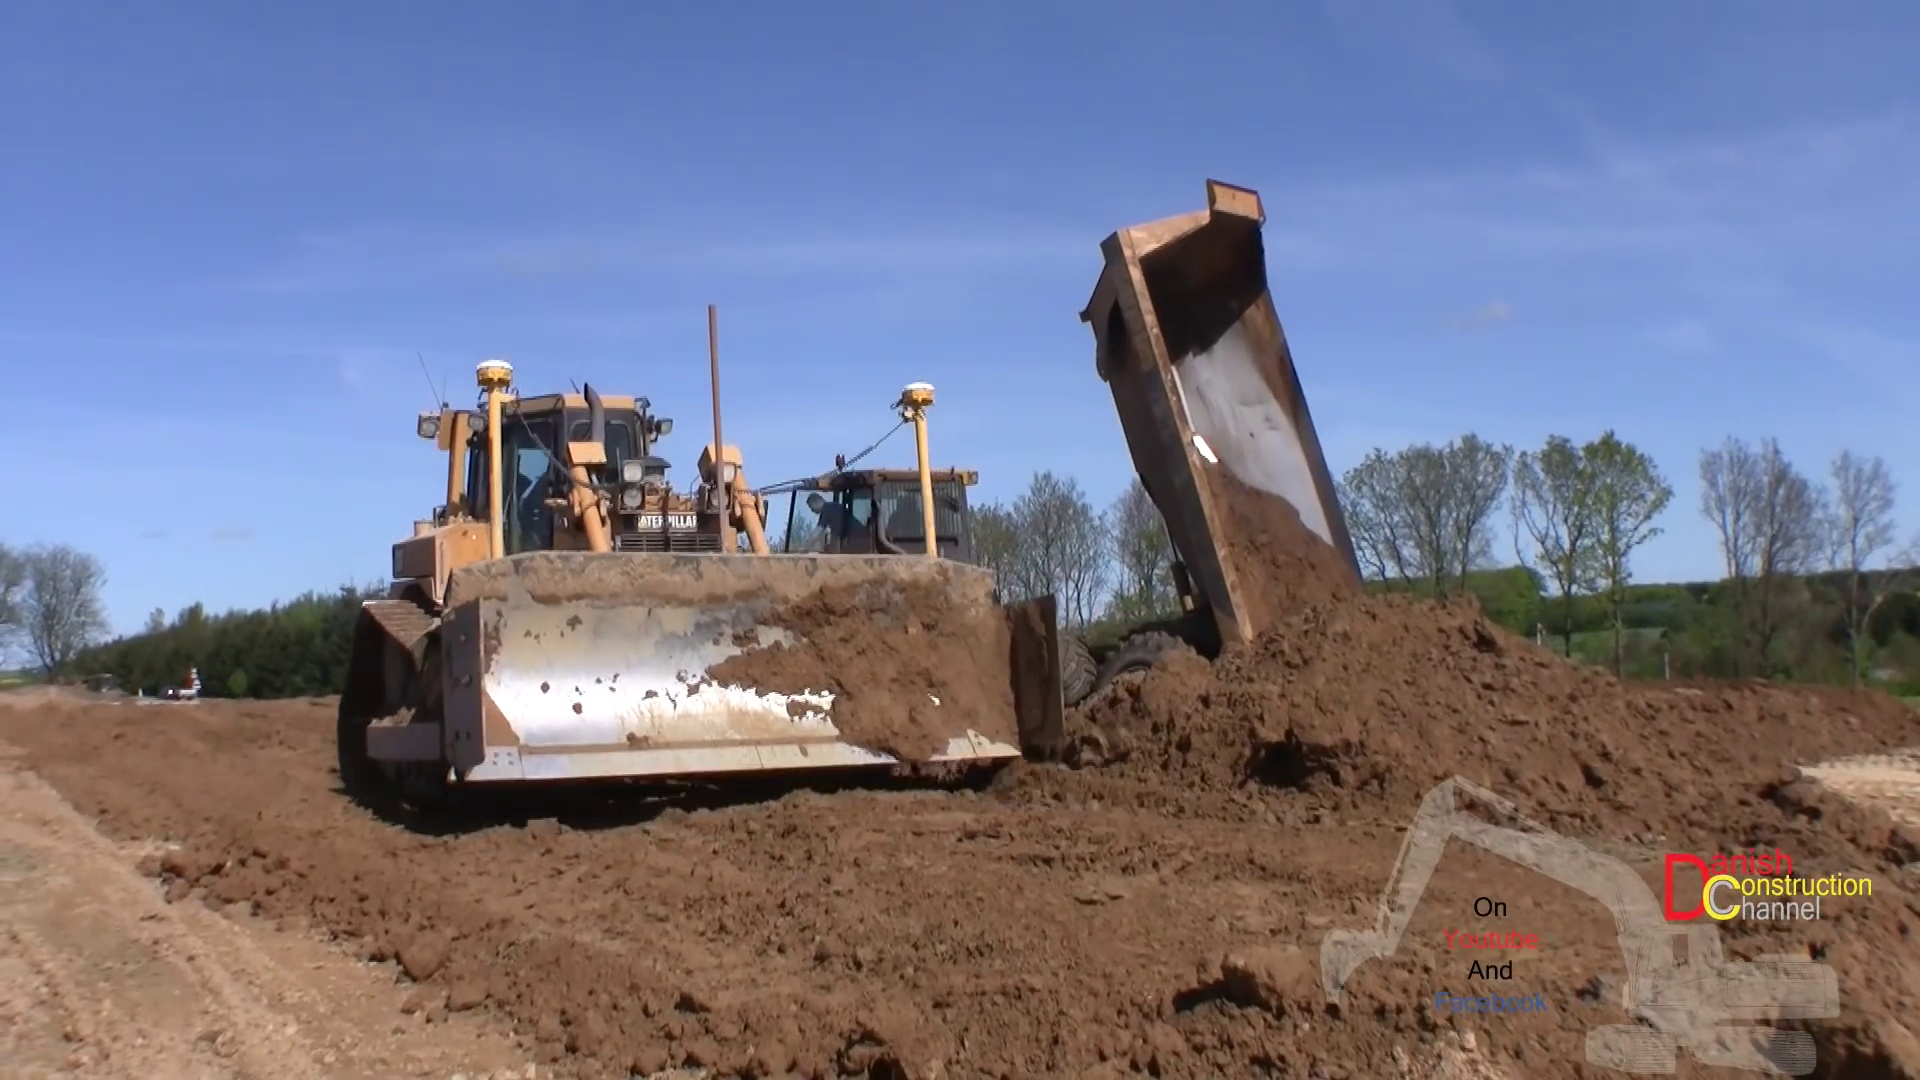bulldozer: (334, 356, 1032, 792)
dumper: (783, 178, 1374, 796)
person: (800, 483, 866, 549)
